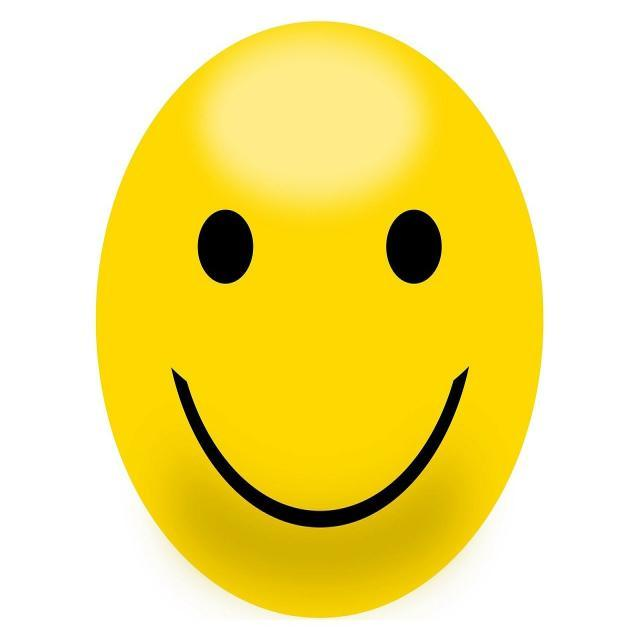Circle: (92, 17, 548, 624), (378, 202, 448, 290), (193, 202, 258, 290)
